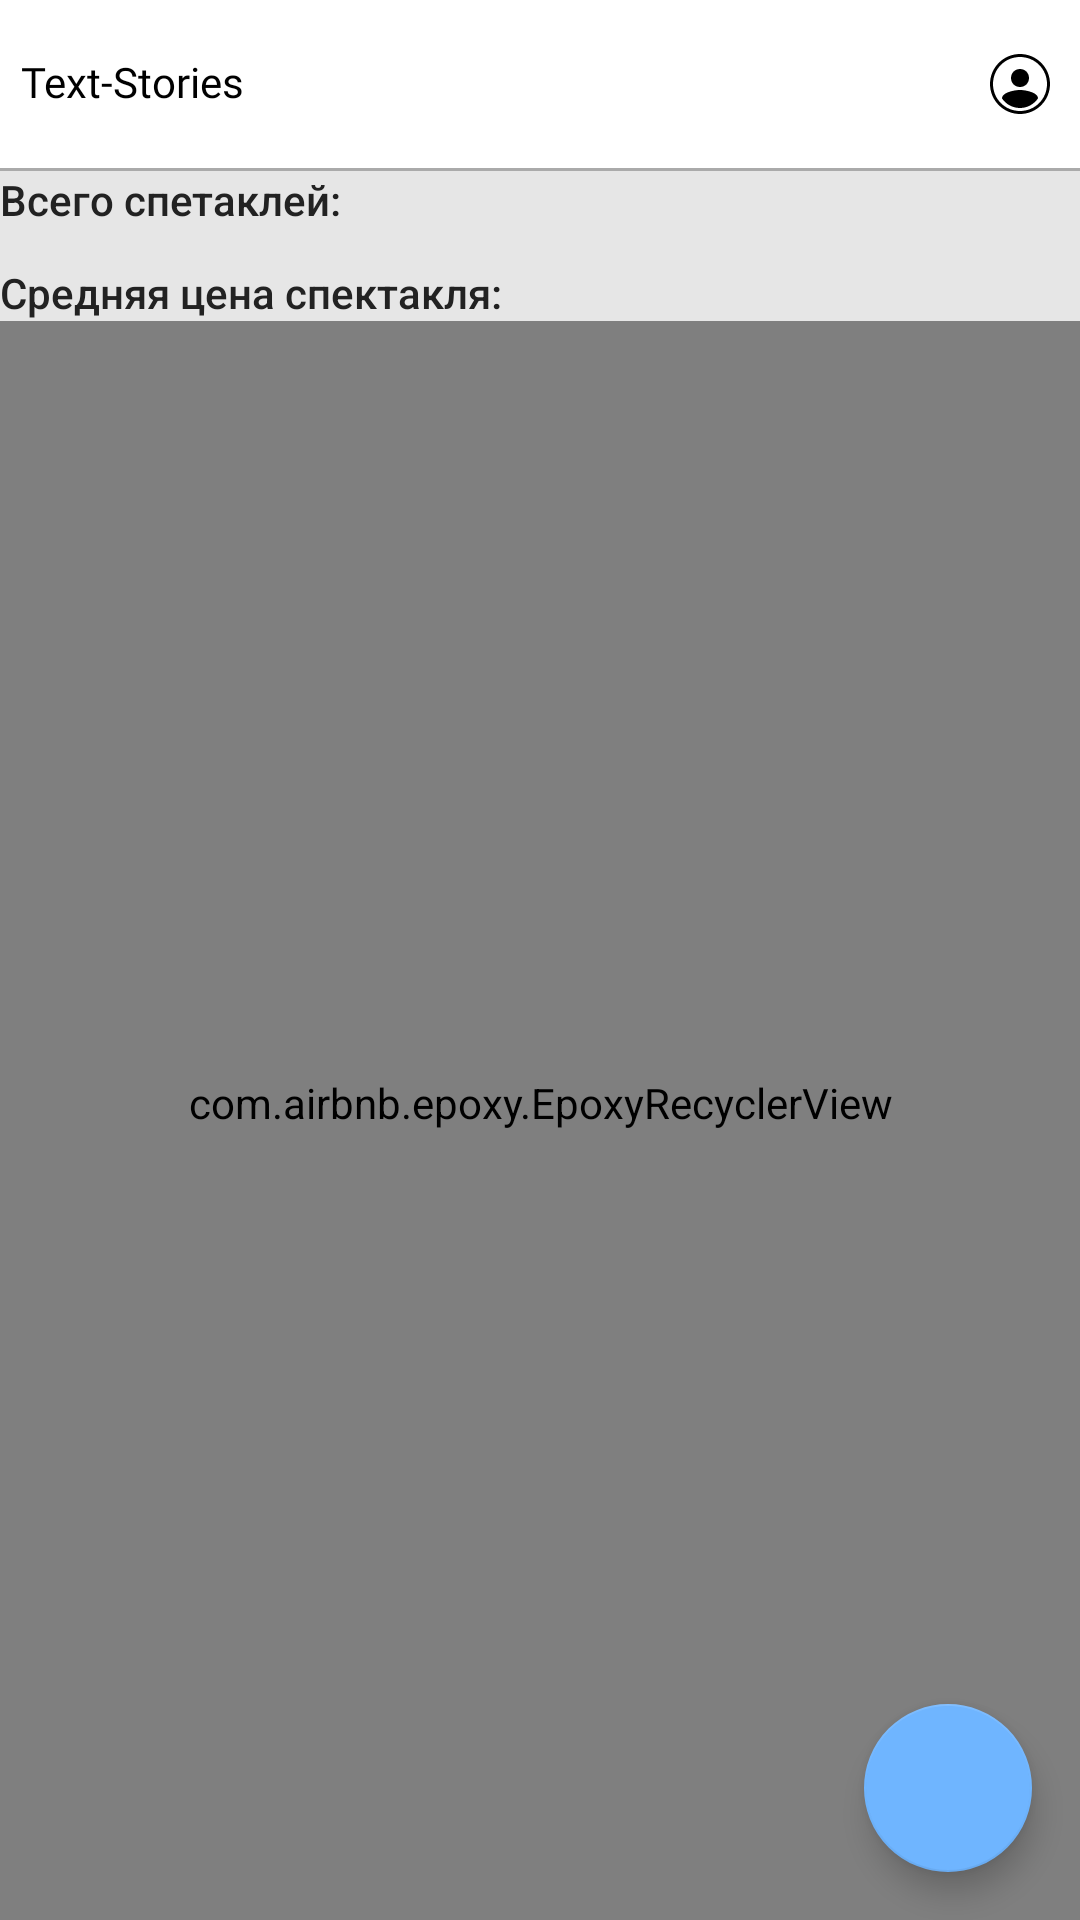

Icon click points for this 1080*1920 phone screenshot, format (x=x, y=y):
profile: (x=1020, y=84)
